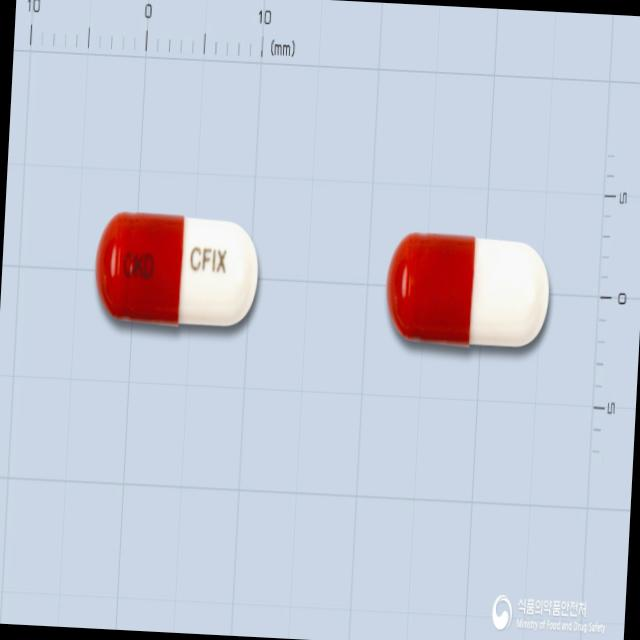Pocef Cap: (93, 208, 262, 330)
